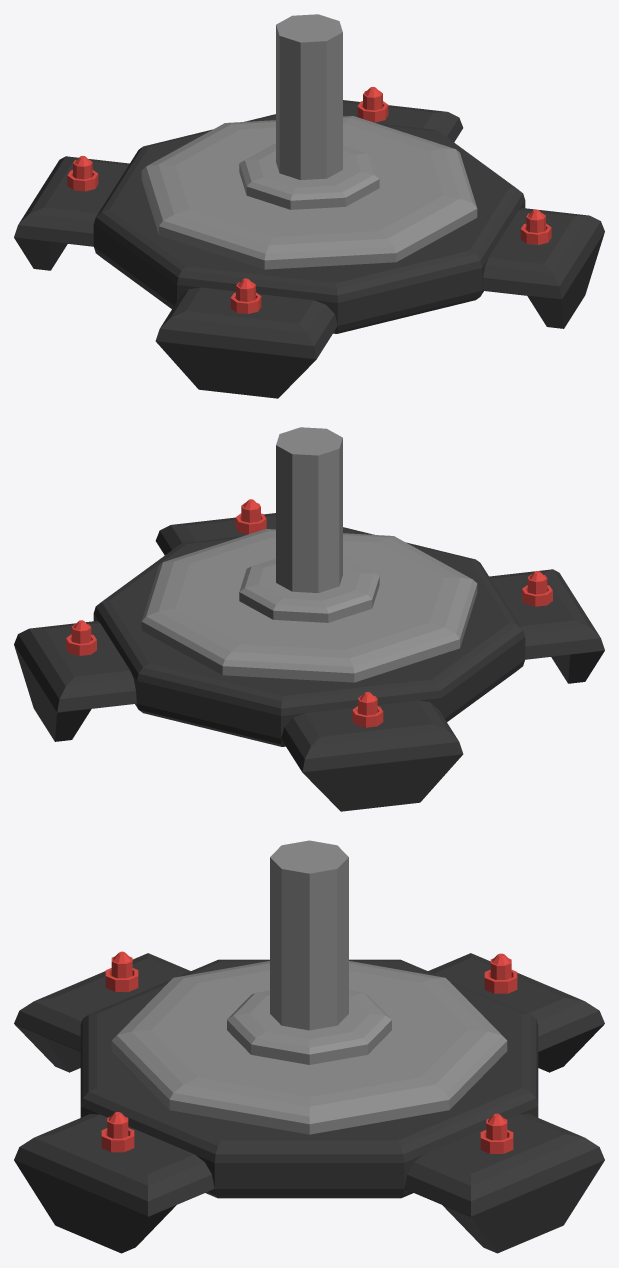
Rendered from gunbase.fbx.
3 views of the same model, one above another, from view 1: azimuth 30°, elevation 25°; view 2: azimuth 150°, elevation 25°; view 3: azimuth 270°, elevation 25° (orthographic). The views are drawn at different scales.
Visible parts, largest first — view 1: Turretalap.002, alap2.003, furatok.002; view 2: Turretalap.002, alap2.003, furatok.002; view 3: Turretalap.002, alap2.003, furatok.002.
Boxes of the visible parts, bbox=[...] form: Turretalap.002: bbox=[14, 100, 604, 398]; alap2.003: bbox=[141, 14, 477, 269]; furatok.002: bbox=[67, 87, 551, 313]; Turretalap.002: bbox=[14, 513, 604, 811]; alap2.003: bbox=[141, 427, 477, 682]; furatok.002: bbox=[66, 499, 552, 727]; Turretalap.002: bbox=[14, 953, 604, 1253]; alap2.003: bbox=[111, 840, 507, 1134]; furatok.002: bbox=[101, 951, 517, 1153].
Bounding box in the file's own units: 191 × 103 × 191.
